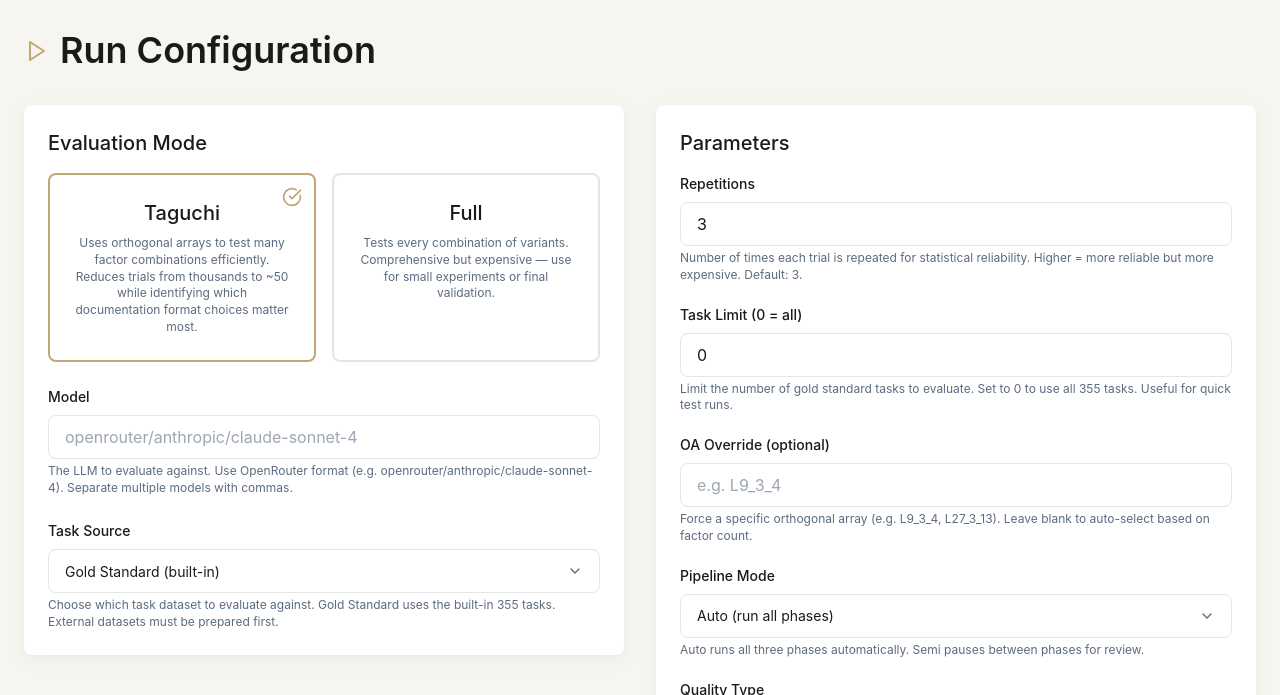
it: RunConfig › should show error message on API failure
Type "test-model" into the field labelled "Model".
click(324, 437); type("test-model")  # box left=48, top=415, right=600, bottom=459
(page scrolled)
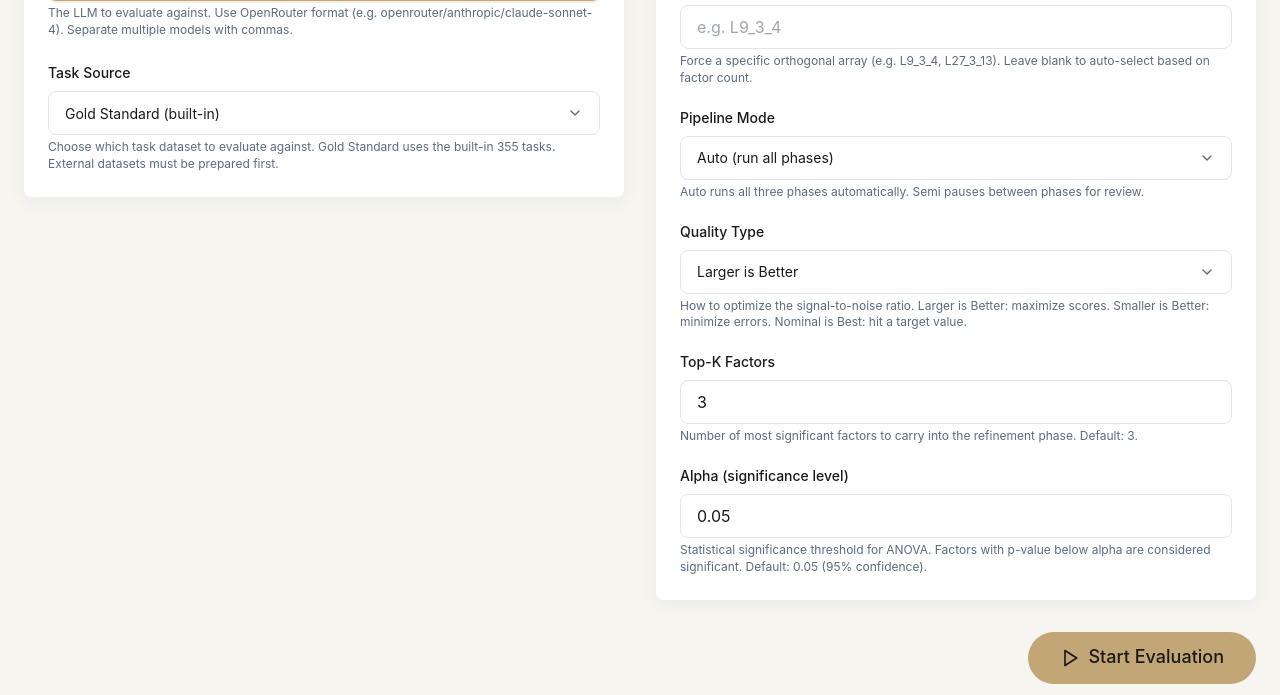
Click the button "Start Evaluation".
click(1142, 658)  # box left=1028, top=632, right=1256, bottom=684
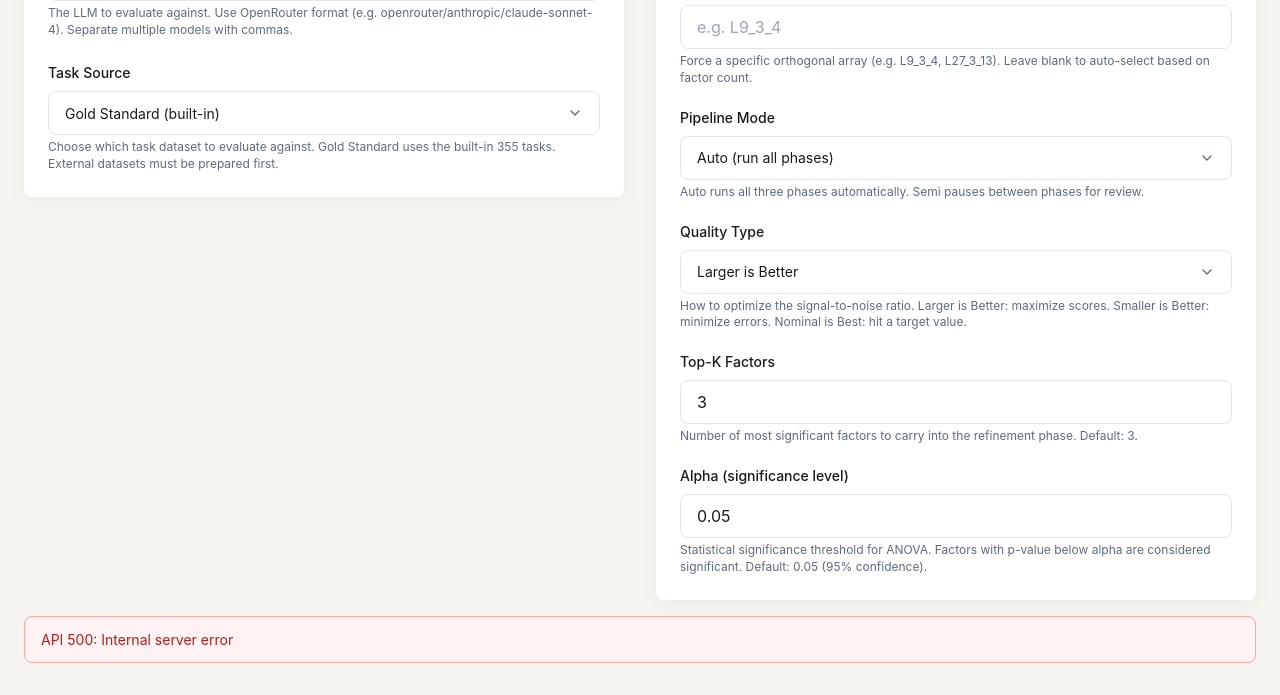
Expected: the text "API 500: Internal server error" is shown, left=24, top=616, right=1256, bottom=663
